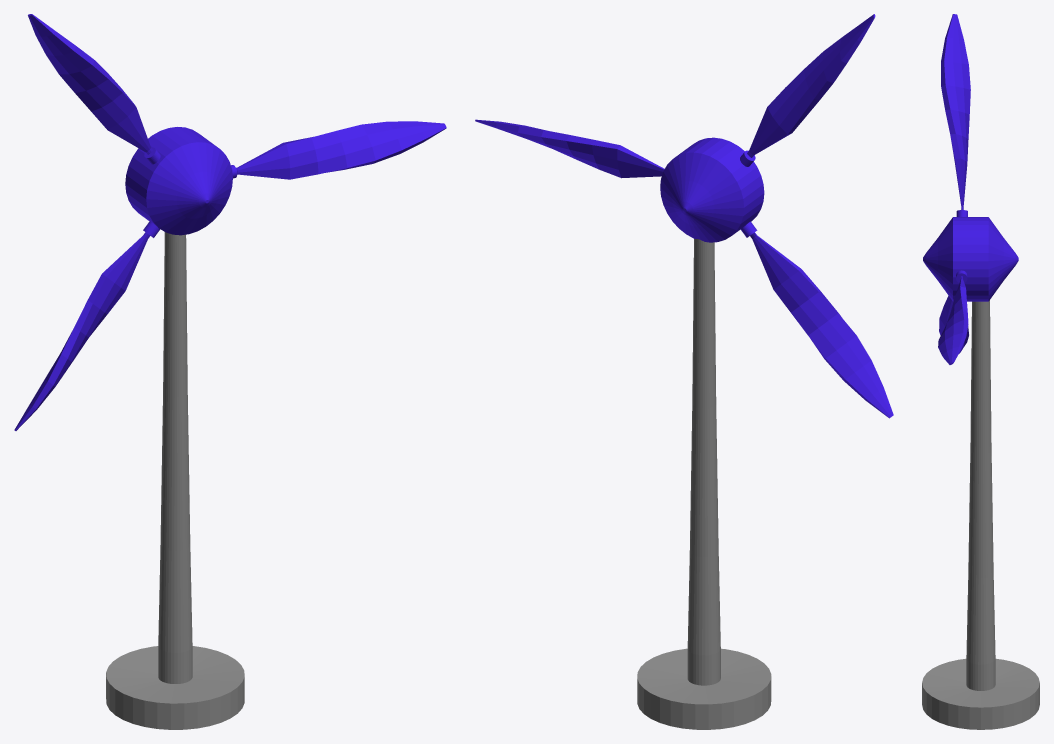
Rendered from windmill01.fbx.
3 renders of one model, left to right at view 1: azimuth 30°, elevation 25°; view 2: azimuth 150°, elevation 25°; view 3: azimuth 270°, elevation 25°, orthographic. The views are drawn at different scales.
Parts seen in each view (by area): view 1: windmill.001, windmill; view 2: windmill.001, windmill; view 3: windmill, windmill.001.
Boxes of the visible parts, <box> form: windmill.001: <box>14,14,446,430</box>; windmill: <box>106,232,244,729</box>; windmill.001: <box>475,14,893,418</box>; windmill: <box>637,239,771,729</box>; windmill: <box>922,300,1039,729</box>; windmill.001: <box>923,14,1018,364</box>.
Bounding box in the file's own units: 1963 × 3210 × 548.
